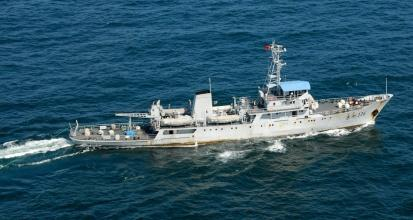warship: (52, 66, 396, 152)
